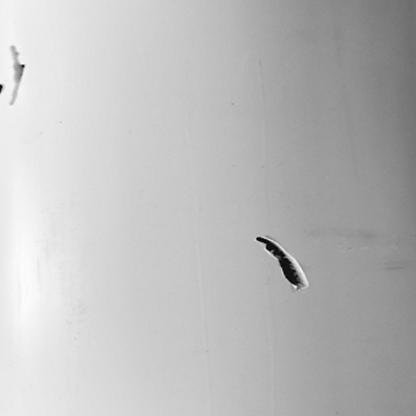kongdong: (254, 226, 316, 294), (6, 39, 36, 113)
